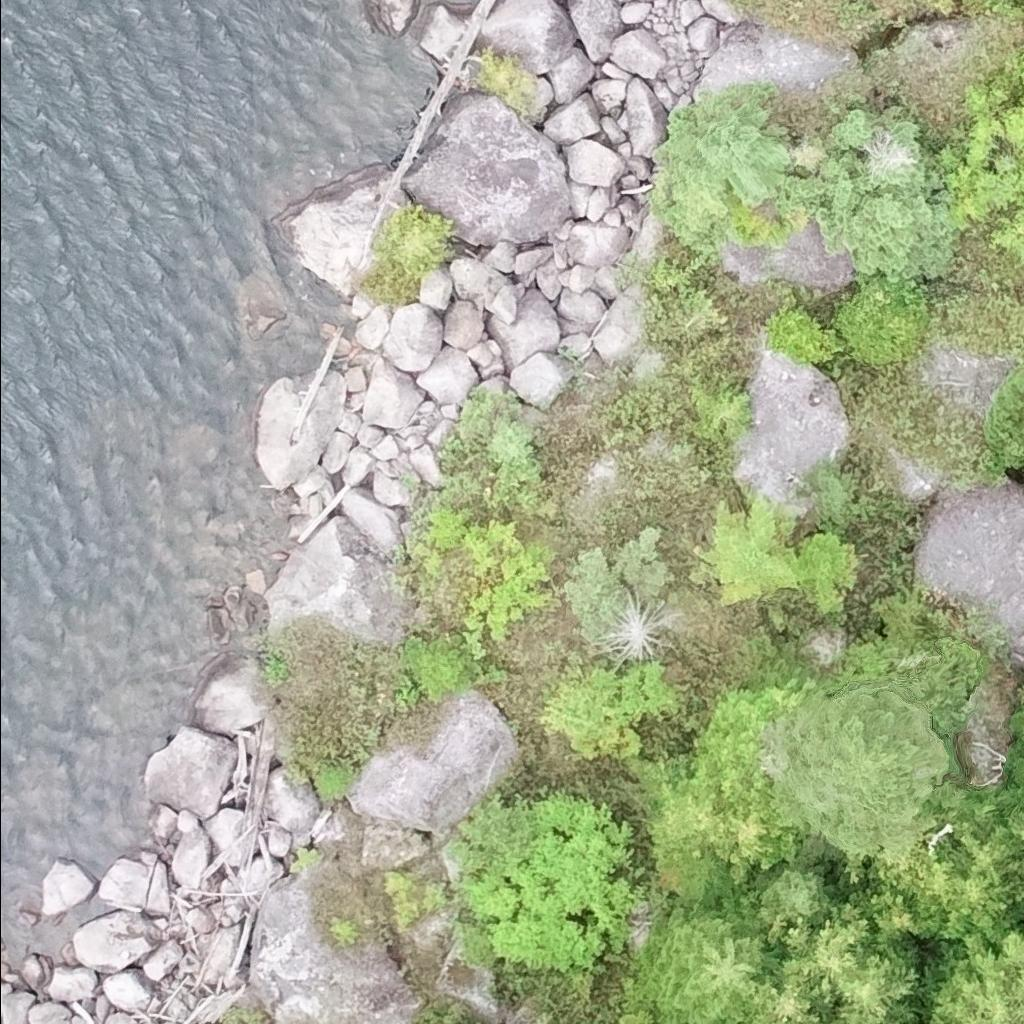crown: (768, 680, 950, 861), (776, 112, 959, 282), (652, 78, 790, 249), (633, 904, 784, 1023), (912, 818, 1023, 947), (651, 781, 734, 909), (695, 488, 796, 592), (921, 926, 1023, 1023), (593, 581, 685, 673), (830, 286, 927, 362), (830, 949, 920, 1023), (805, 900, 874, 993), (750, 954, 837, 1023), (764, 304, 846, 362), (1005, 705, 1023, 793), (1009, 805, 1023, 845), (914, 1021, 919, 1023)
